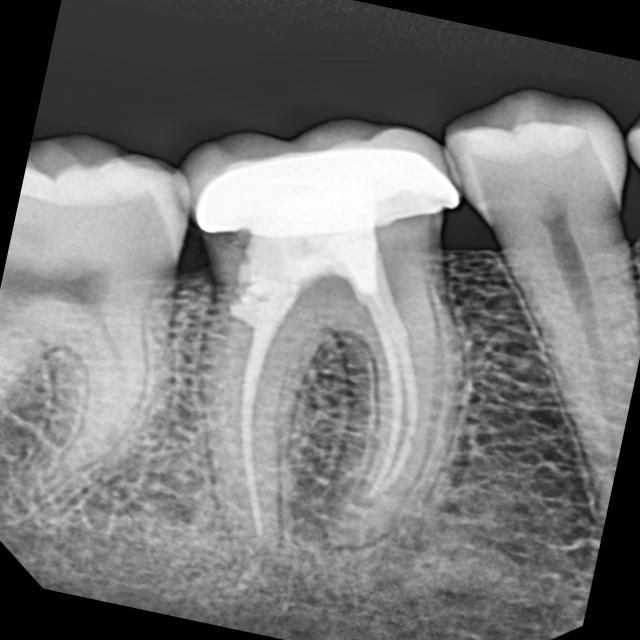Crown: (179, 117, 476, 265)
Normal: (420, 68, 640, 544)
RCT: (197, 258, 473, 592)
